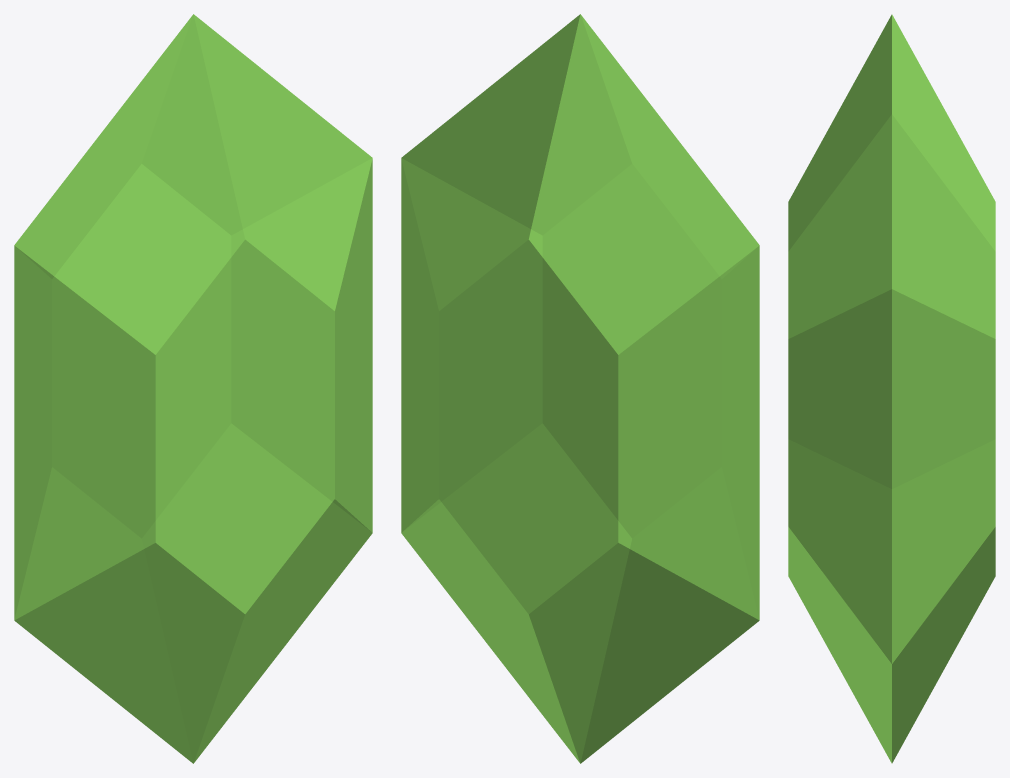
File: gem.fbx
The picture shows the model from 3 angles, left to right: view 1: azimuth 30°, elevation 25°; view 2: azimuth 150°, elevation 25°; view 3: azimuth 270°, elevation 25°; orthographic projection.
Visible parts, largest first — view 1: Plane; view 2: Plane; view 3: Plane.
Part boxes in pixels (left/top/right/bottom): Plane: left=14, top=14, right=372, bottom=763; Plane: left=401, top=14, right=759, bottom=763; Plane: left=788, top=14, right=995, bottom=763.
Size of the model in its own units: 200 by 400 by 100.
